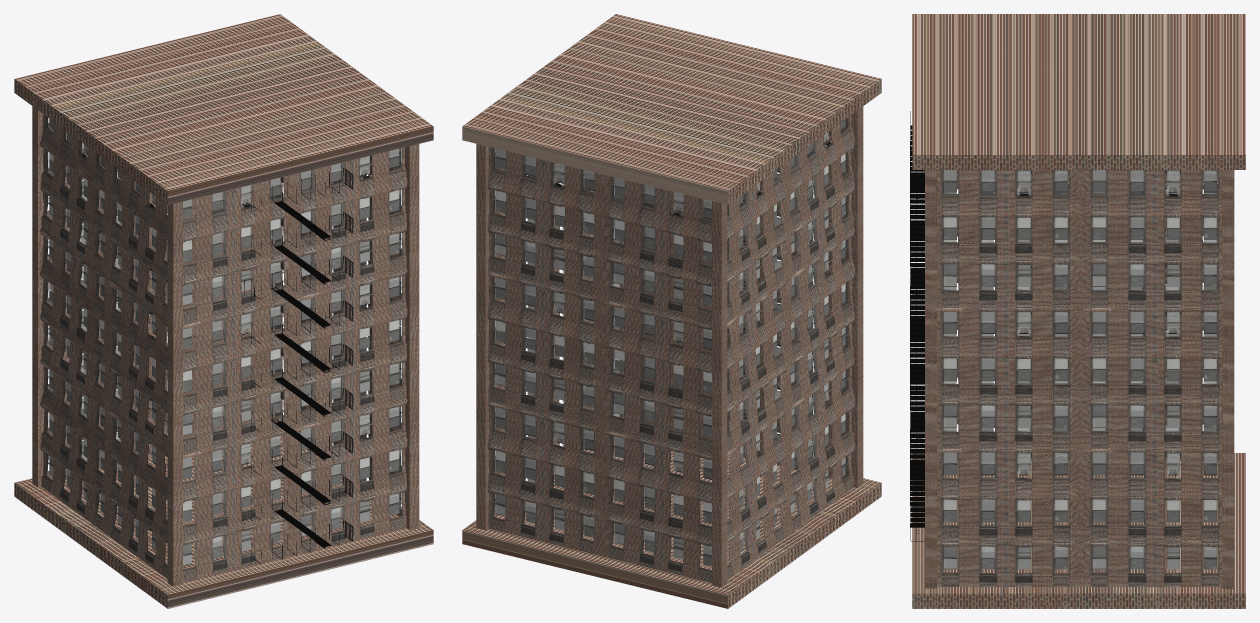
3 renders of one model, left to right at view 1: azimuth 30°, elevation 25°; view 2: azimuth 150°, elevation 25°; view 3: azimuth 270°, elevation 25°, orthographic. The views are drawn at different scales.
Bounding box in the file's own units: 2.14 × 3.21 × 2.16.
5 materials, 4 textured.
